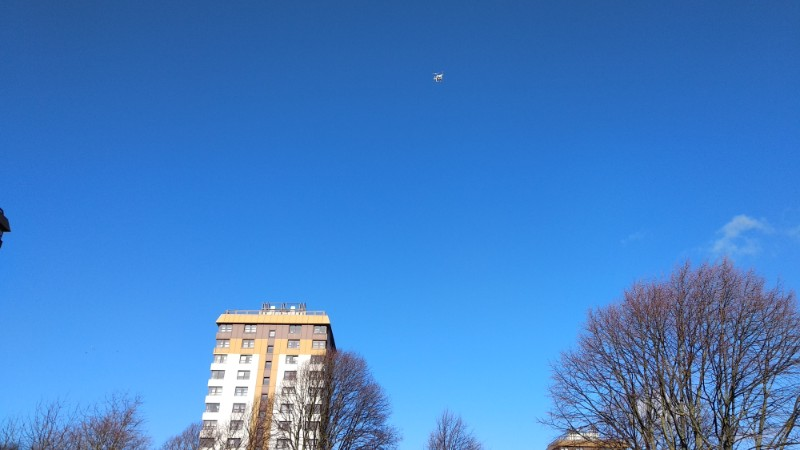drone: (432, 70, 445, 82)
